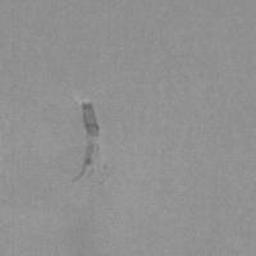Inclusion: (70, 100, 108, 182)
